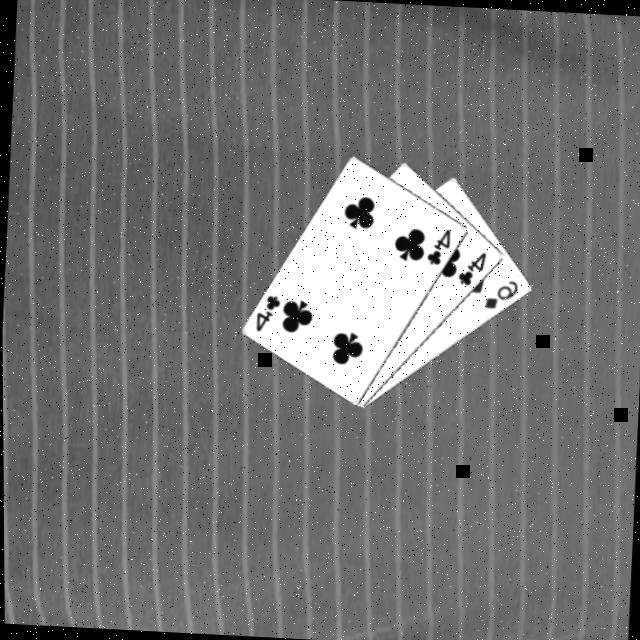4C: (455, 250, 491, 292), (253, 293, 284, 337), (424, 227, 454, 270)
6D: (482, 278, 522, 316)
